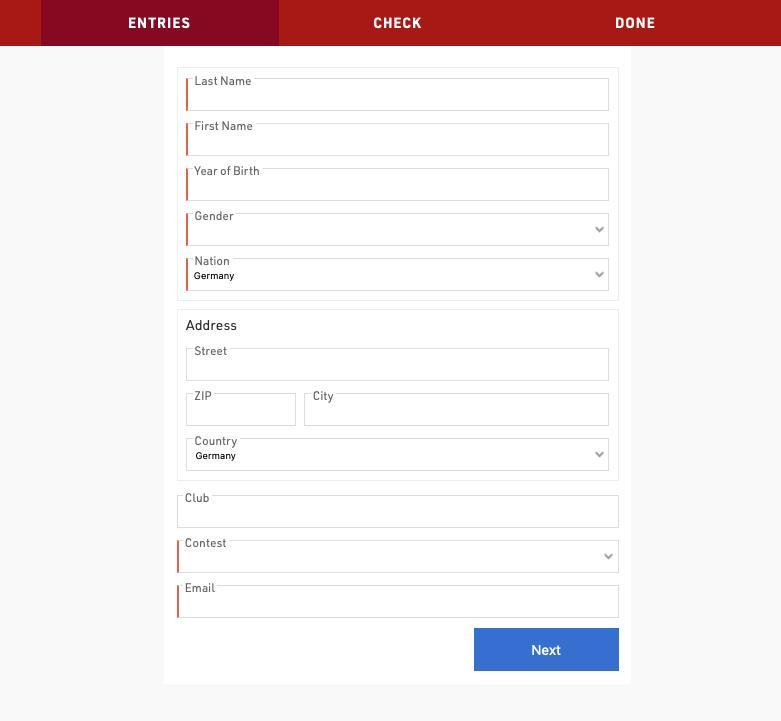button: (474, 628, 622, 673)
dropdown: (175, 536, 622, 577), (184, 212, 612, 250), (185, 437, 612, 473), (186, 257, 611, 293)
input: (175, 491, 621, 532), (175, 580, 622, 620), (185, 346, 612, 384), (185, 166, 610, 203), (186, 121, 610, 158), (186, 77, 610, 113), (304, 391, 610, 429), (186, 391, 298, 428)
label: (185, 318, 241, 333)
